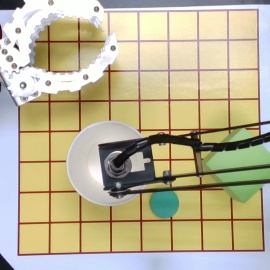cup: (65, 121, 150, 208)
green: (151, 190, 181, 217)
